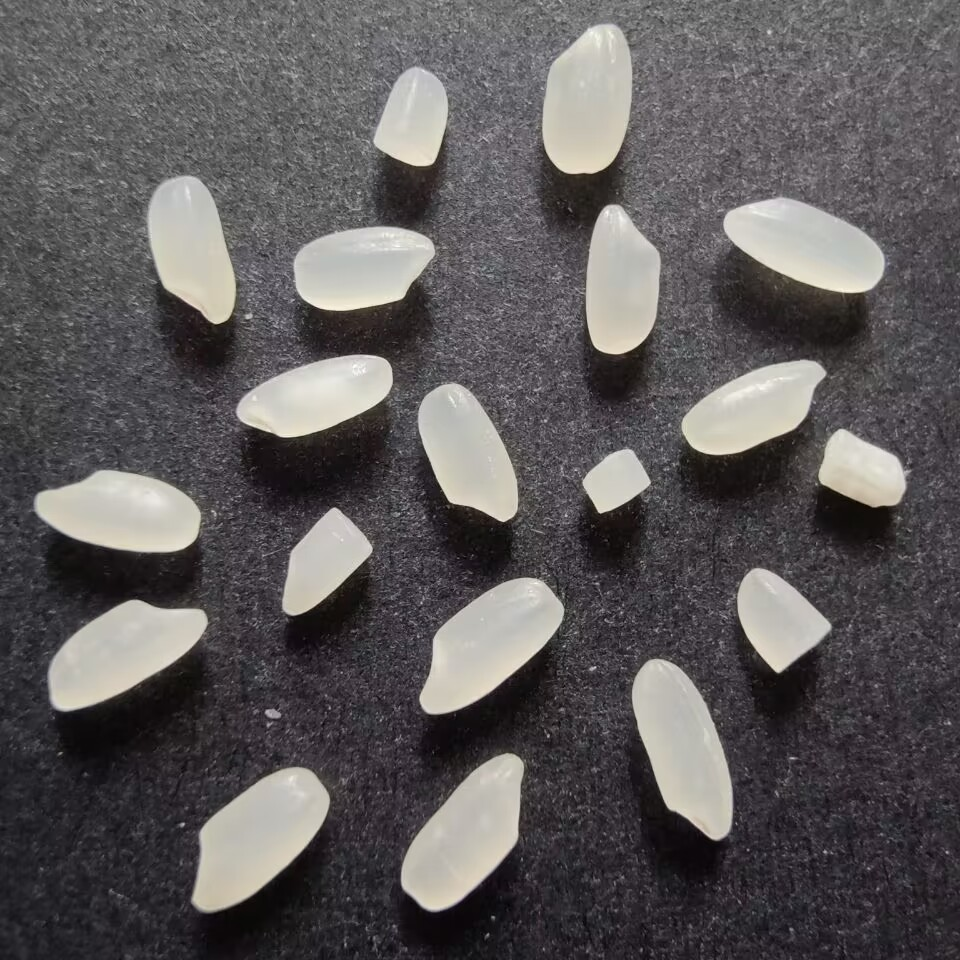broken: (275, 500, 378, 622), (733, 561, 834, 677), (368, 65, 452, 169), (813, 426, 907, 517), (577, 443, 651, 518)
rice: (182, 761, 333, 919), (414, 574, 571, 719), (396, 748, 523, 917), (45, 592, 212, 719), (631, 654, 738, 841), (719, 193, 889, 297), (534, 15, 638, 180), (26, 466, 203, 558), (140, 170, 240, 332), (413, 382, 522, 524), (676, 354, 827, 456), (227, 350, 397, 440), (578, 198, 665, 364), (288, 223, 438, 313)
